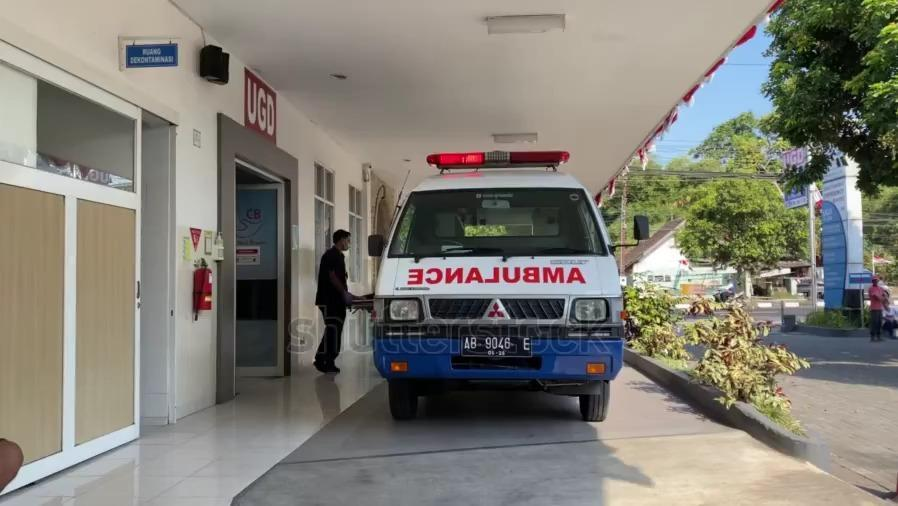Ambulance: (406, 258, 589, 289)
